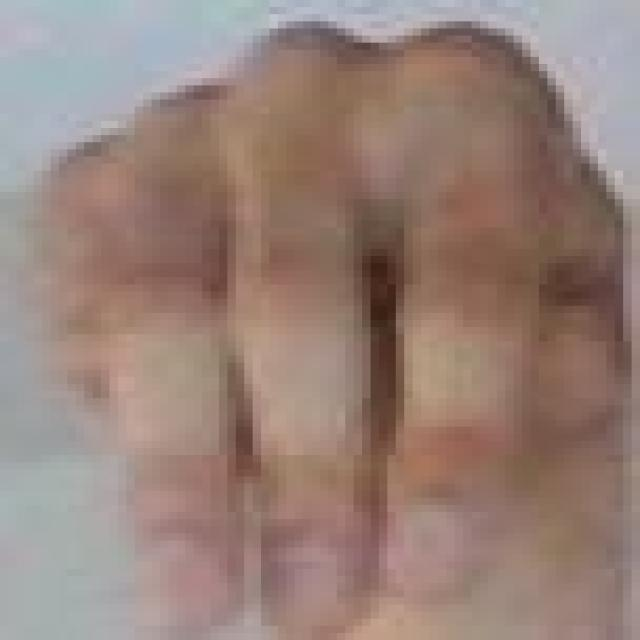M: (13, 5, 640, 640)
